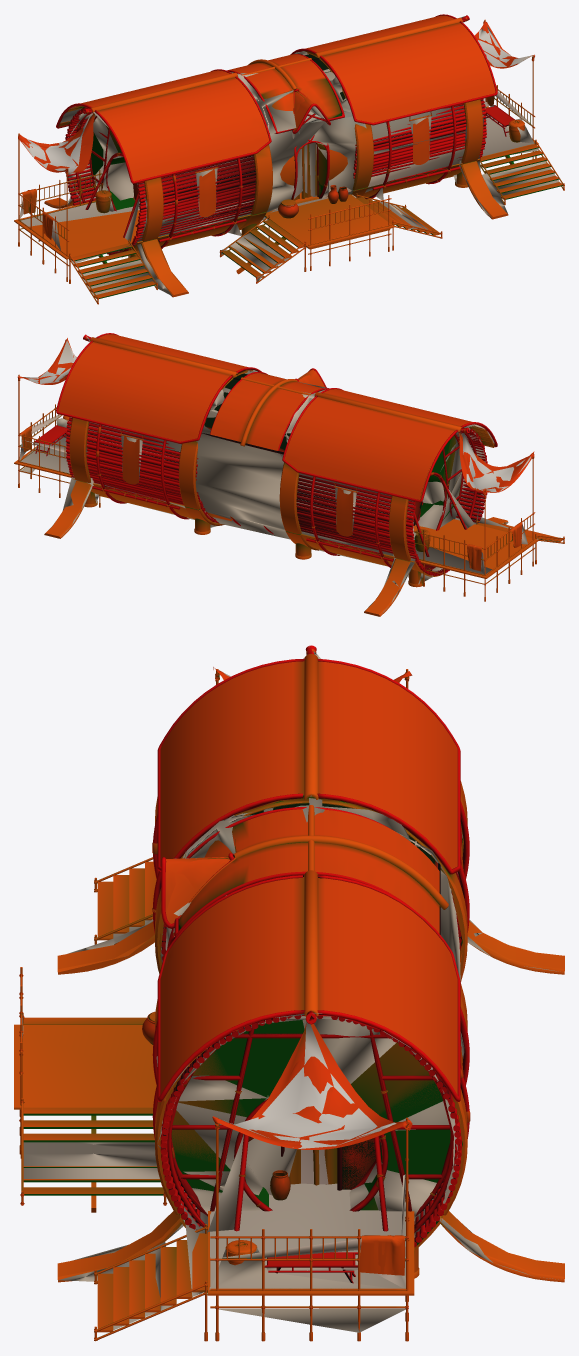
The model's file is KB3D_GAE_BldgSM_I.glb.
The picture shows the model from 3 angles, top to bottom: view 1: azimuth 30°, elevation 25°; view 2: azimuth 150°, elevation 25°; view 3: azimuth 270°, elevation 25°; orthographic projection. The views are drawn at different scales.
Parts seen in each view (by area): view 1: L0, L2, L1; view 2: L0, L2, L1; view 3: L0, L2, L1.
Boxes of the visible parts, x1=… form: L0: x1=14, y1=14, x2=564, y2=304; L2: x1=19, y1=16, x2=559, y2=295; L1: x1=20, y1=15, x2=562, y2=295; L0: x1=14, y1=333, x2=564, y2=616; L2: x1=19, y1=336, x2=558, y2=613; L1: x1=18, y1=335, x2=563, y2=616; L0: x1=14, y1=645, x2=564, y2=1341; L2: x1=22, y1=646, x2=560, y2=1332; L1: x1=14, y1=646, x2=564, y2=1325.
Bounding box in the file's own units: 21.93 × 6.69 × 11.23.
